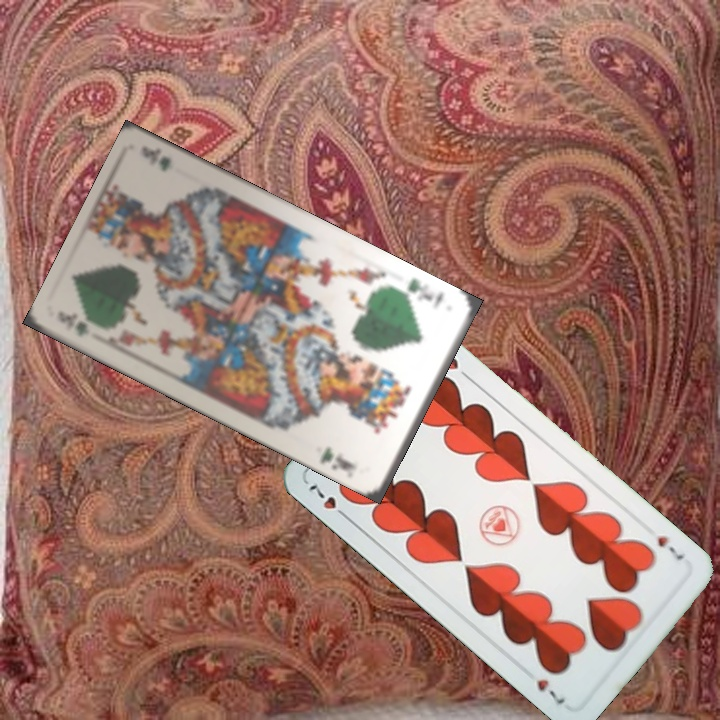GK: (393, 274, 447, 312), (56, 308, 92, 339)
H7: (303, 480, 352, 523), (653, 531, 687, 563)
